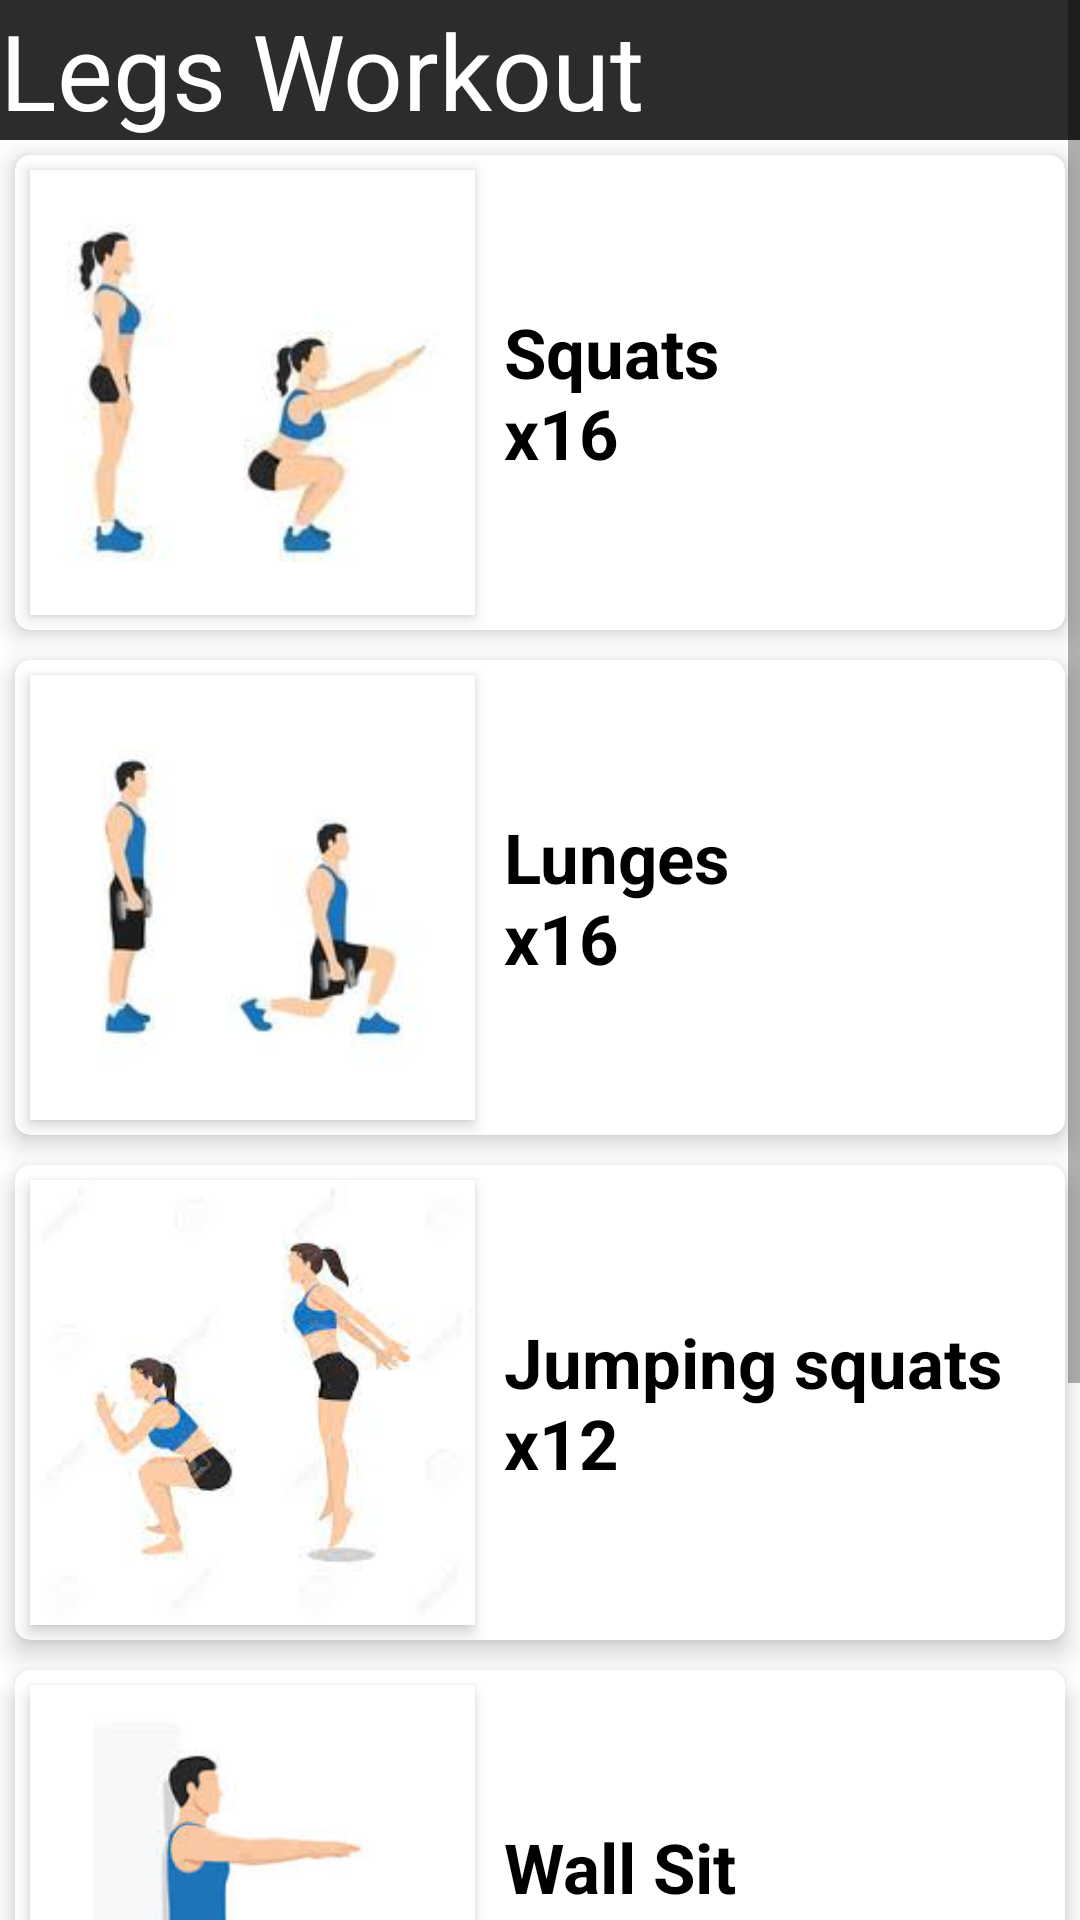

Icon click points for this 1080*1920 phone screenshot, format (x,y):
jumpsquats: (252,1402)
